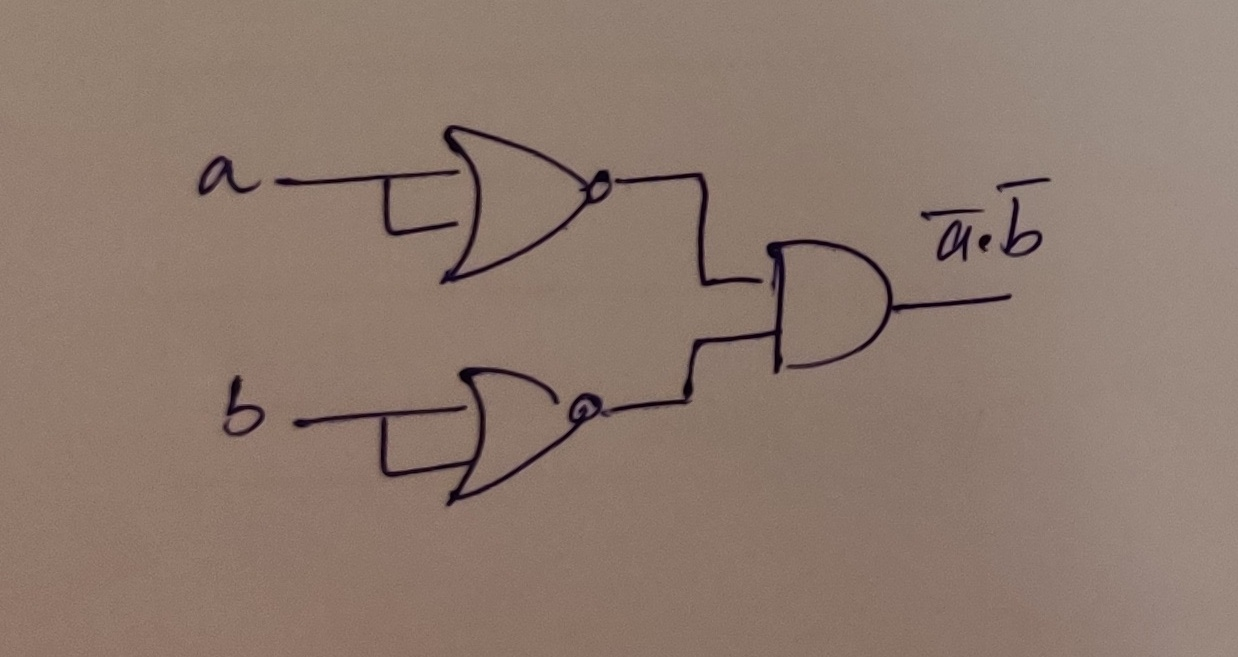and: (734, 222, 913, 397)
nor: (419, 109, 638, 300), (426, 356, 631, 525)
